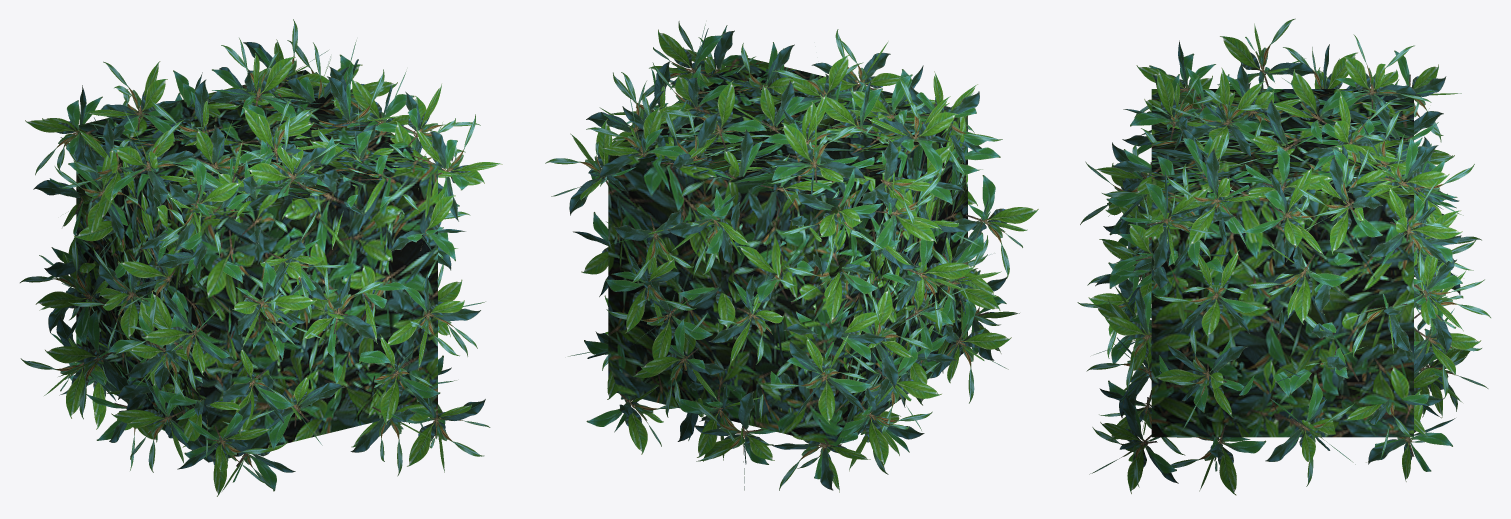
The model's file is hedge-small.glb.
3 renders of one model, left to right at view 1: azimuth 30°, elevation 25°; view 2: azimuth 150°, elevation 25°; view 3: azimuth 270°, elevation 25°, orthographic.
Bounding box in the file's own units: 25.68 × 25.5 × 25.89.
Materials: 1 (1 with a texture image).
